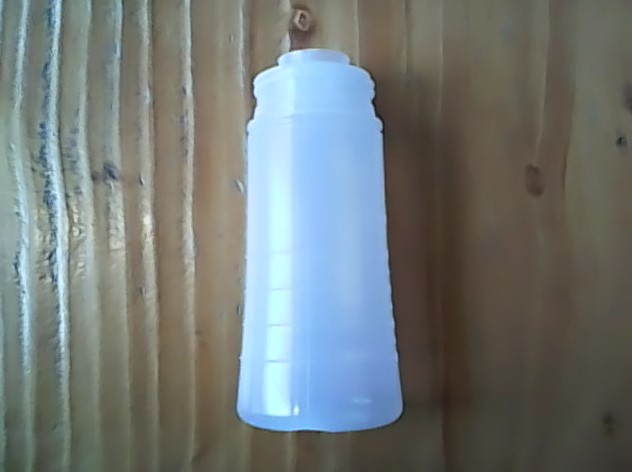Plastic: (227, 38, 410, 438)
